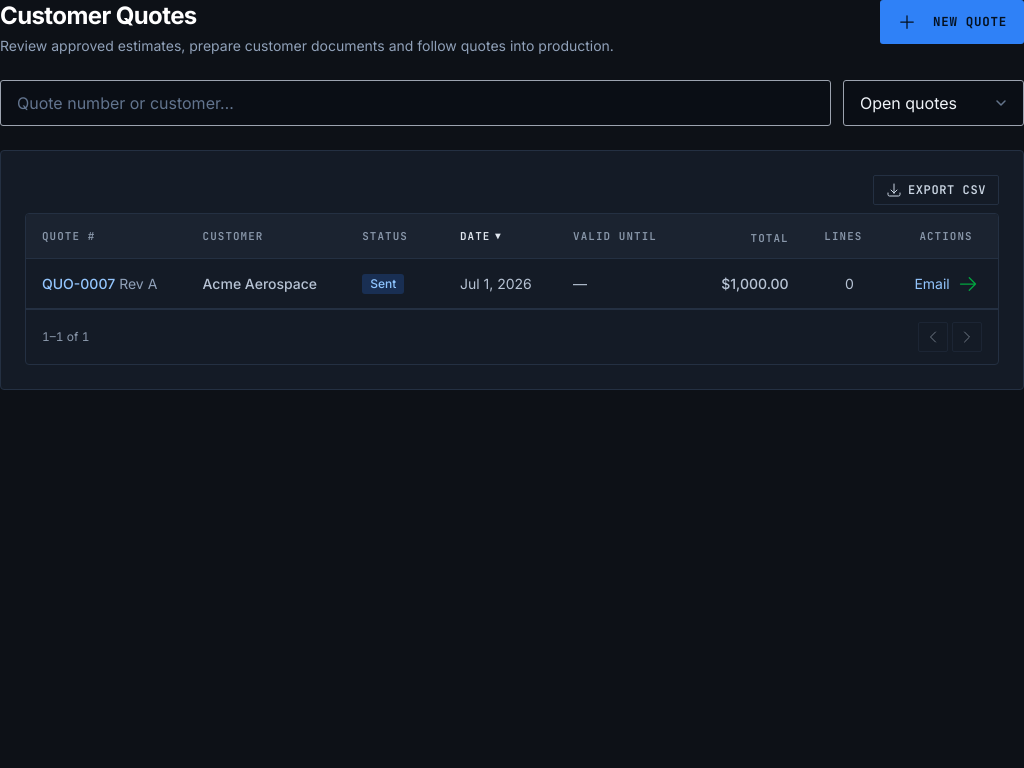
Quotes convert-to-work-order confirm (info variant) › opens the info confirm dialog and converts only on confirm
Click the button named "Convert to Work Order": (968, 284) [958,274,978,294]
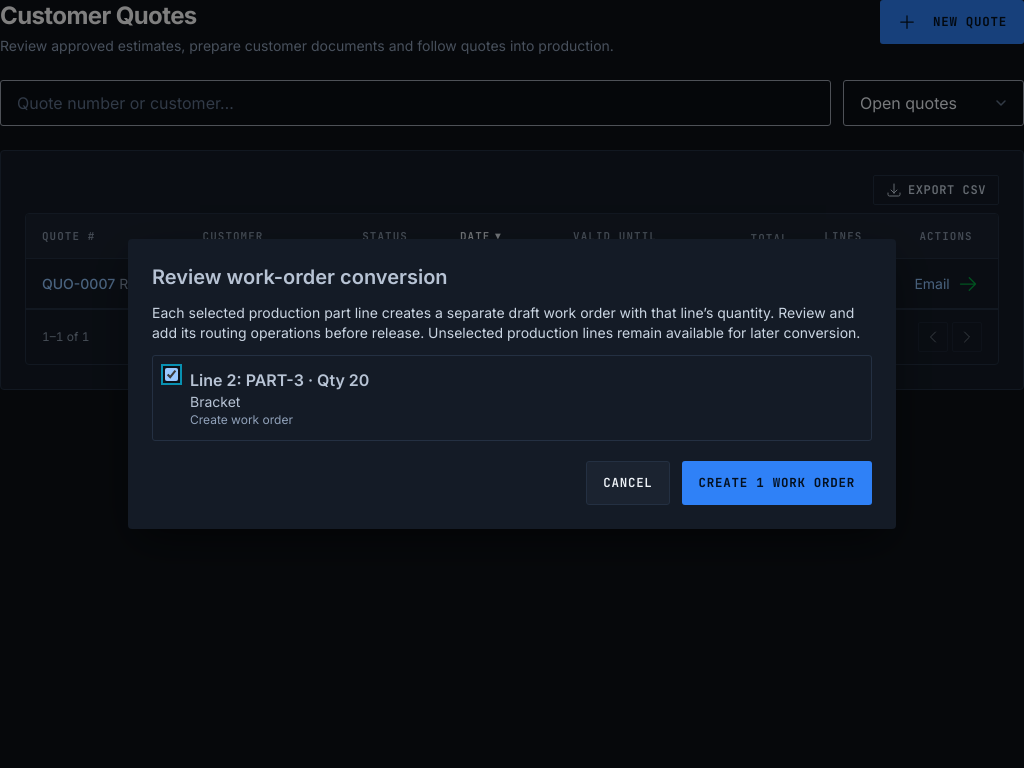
Check: the text "Line 2: PART-3 · Qty 20" is shown, box [190,370,369,390]
Click the button "Create 1 work order": (777, 483) [682,461,872,505]
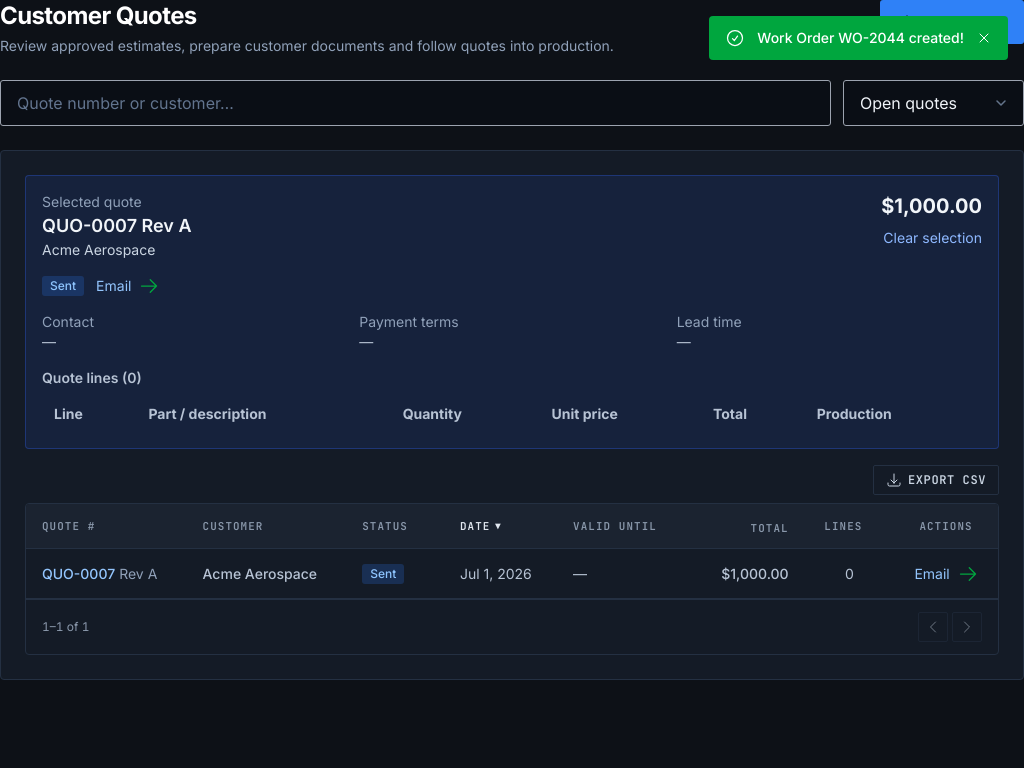
Check: the text "Work Order WO-2044 created!" is shown, box [757,28,964,48]
Check: the dialog is gone
